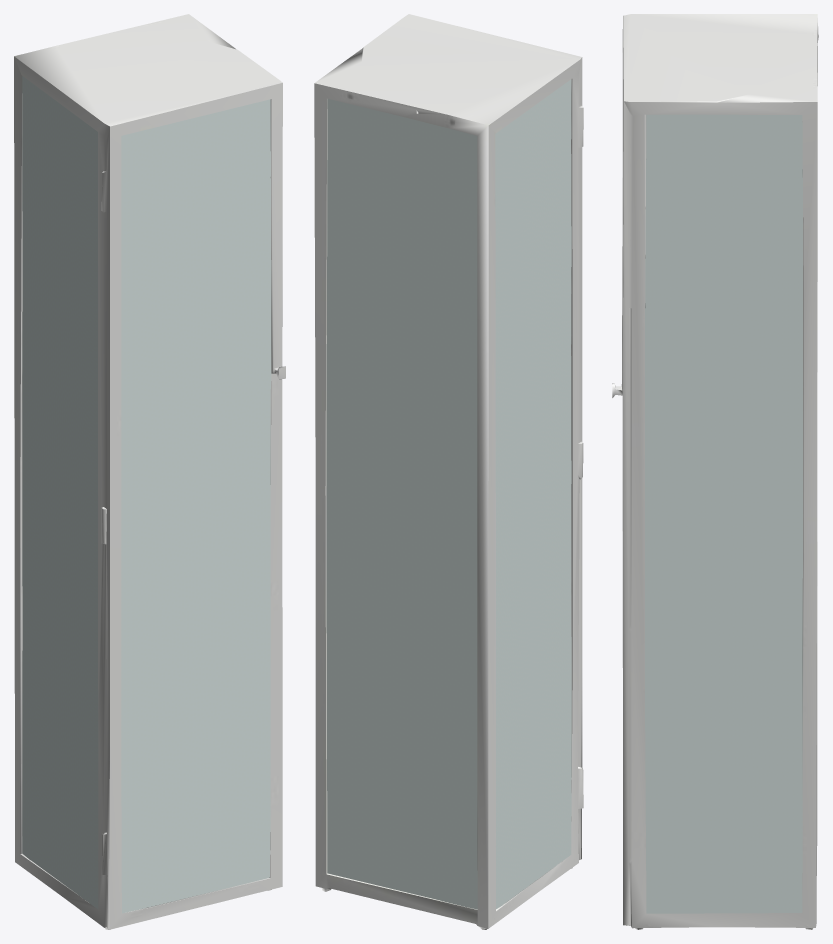
The model's file is 845f90pnzl10.glb.
3 renders of one model, left to right at view 1: azimuth 30°, elevation 25°; view 2: azimuth 150°, elevation 25°; view 3: azimuth 270°, elevation 25°, orthographic. The views are drawn at different scales.
Visible parts, largest first — view 1: model; view 2: model; view 3: model.
Part boxes in pixels (x1,y1,x2,y2): model: (14, 14, 285, 929); model: (314, 14, 583, 929); model: (612, 14, 818, 929).
Bounding box in the file's own units: 0.3484 × 1.51 × 0.3395.
2 materials, 2 textured.
